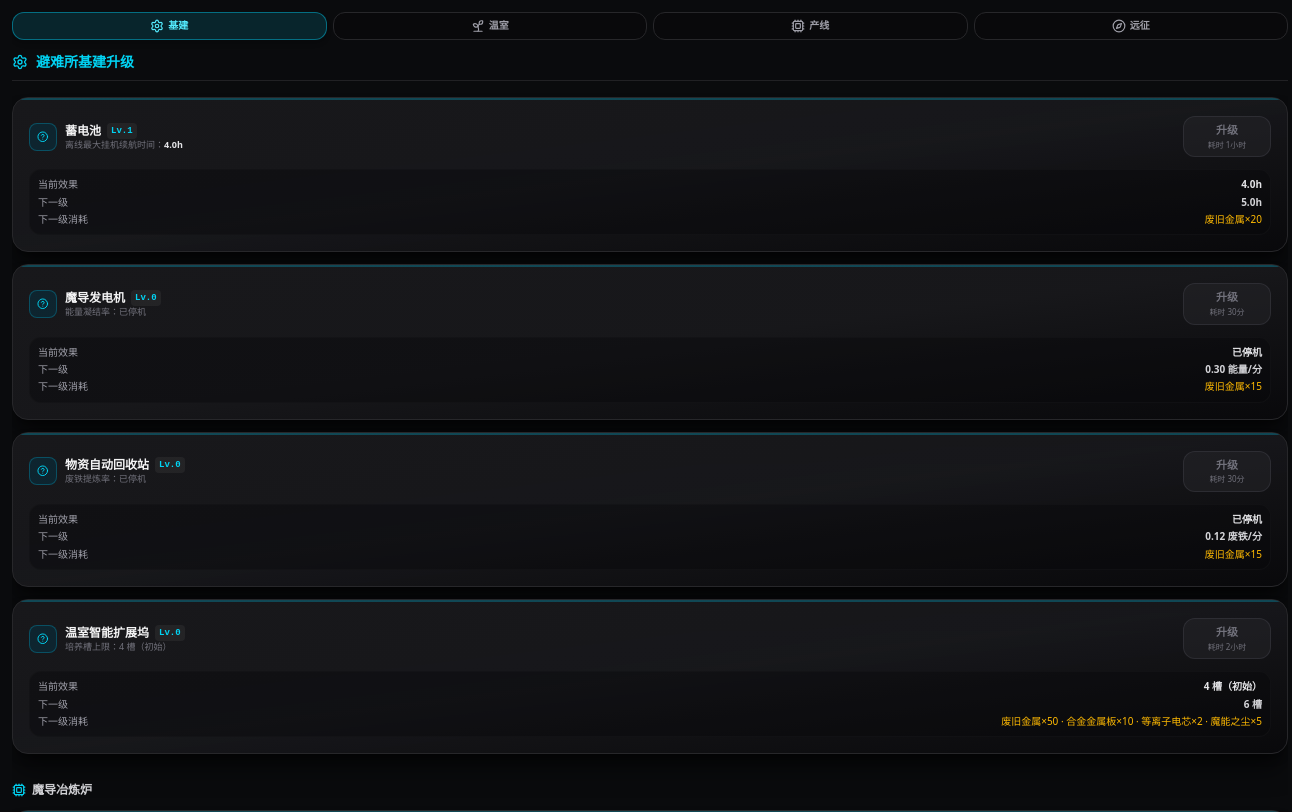
FacilityCard 单任务状态摘要 UI（issue 06） › 渲染待机态状态摘要：每台设备显示「待机 · 空闲」与驻守入口，无队列 UI
Click the button "产线" at coordinates (810, 26), box [653,12,968,40]
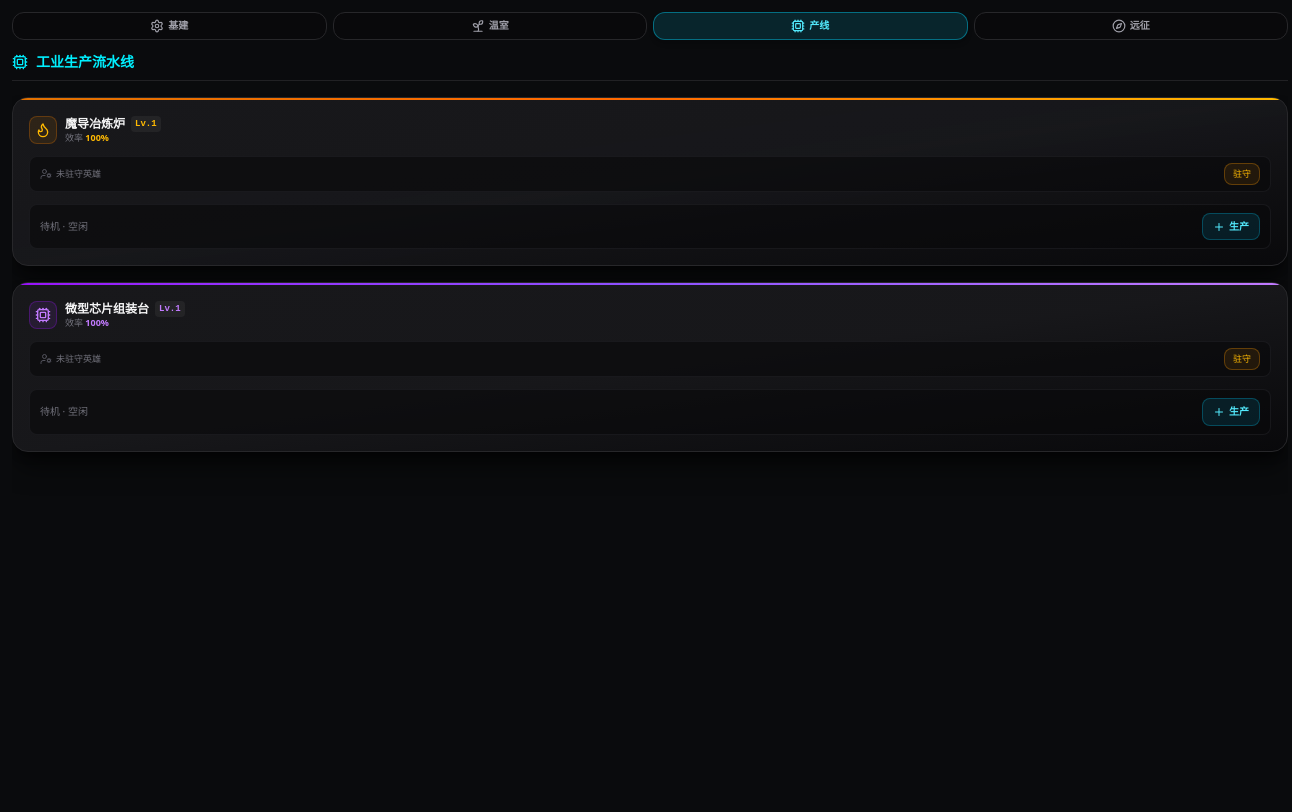
Result: the text "待机 · 空闲" is shown 2 times at [40,220,88,233]; [40,405,88,419]
Result: the text "未驻守英雄" is shown 2 times at [40,168,101,180]; [40,353,101,365]
Result: the number of buttons "驻守" is 2 at [1224,163,1260,185]; [1224,348,1260,370]
